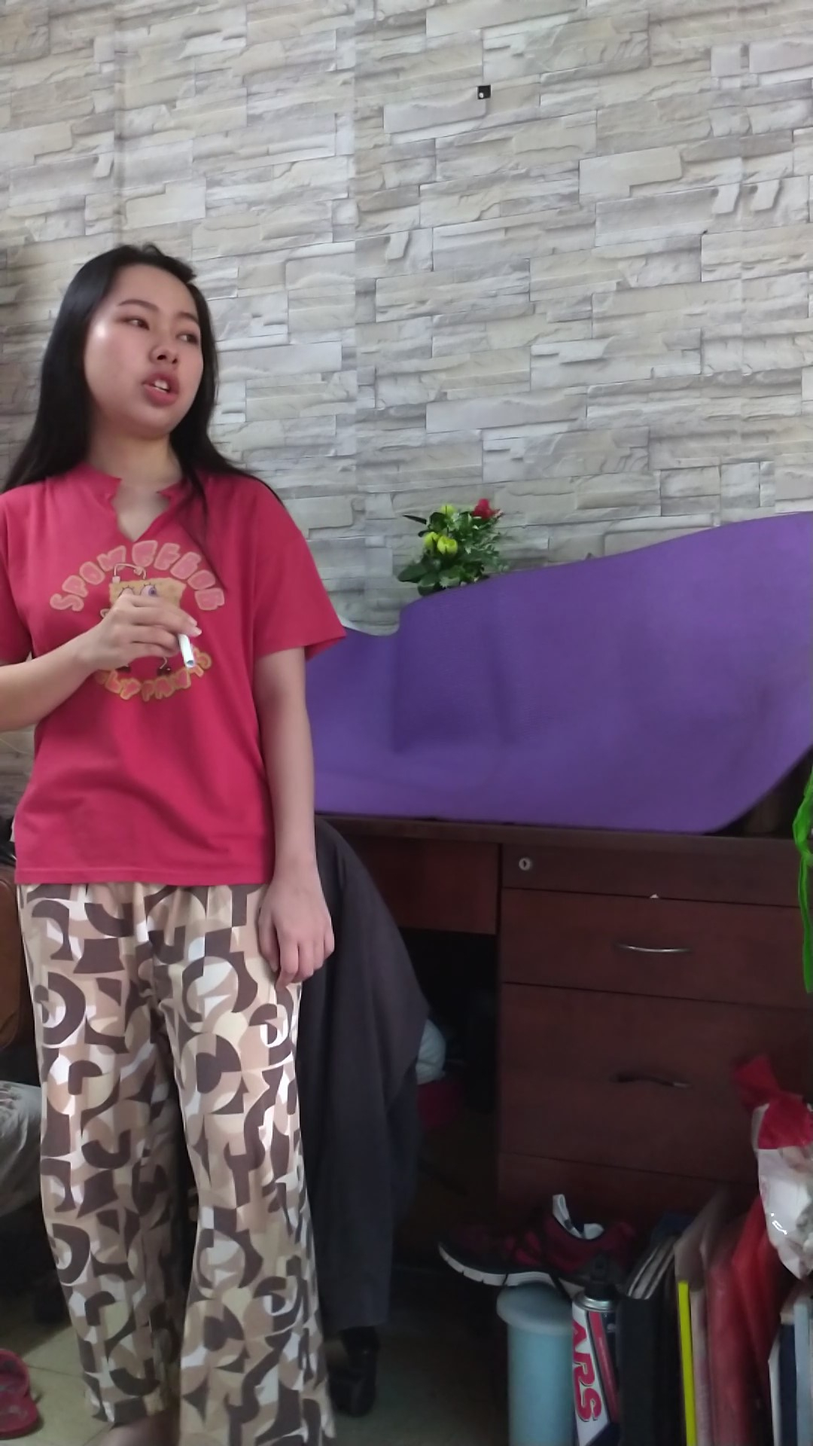cigarette: (172, 628, 199, 675)
person: (0, 215, 382, 1446)
